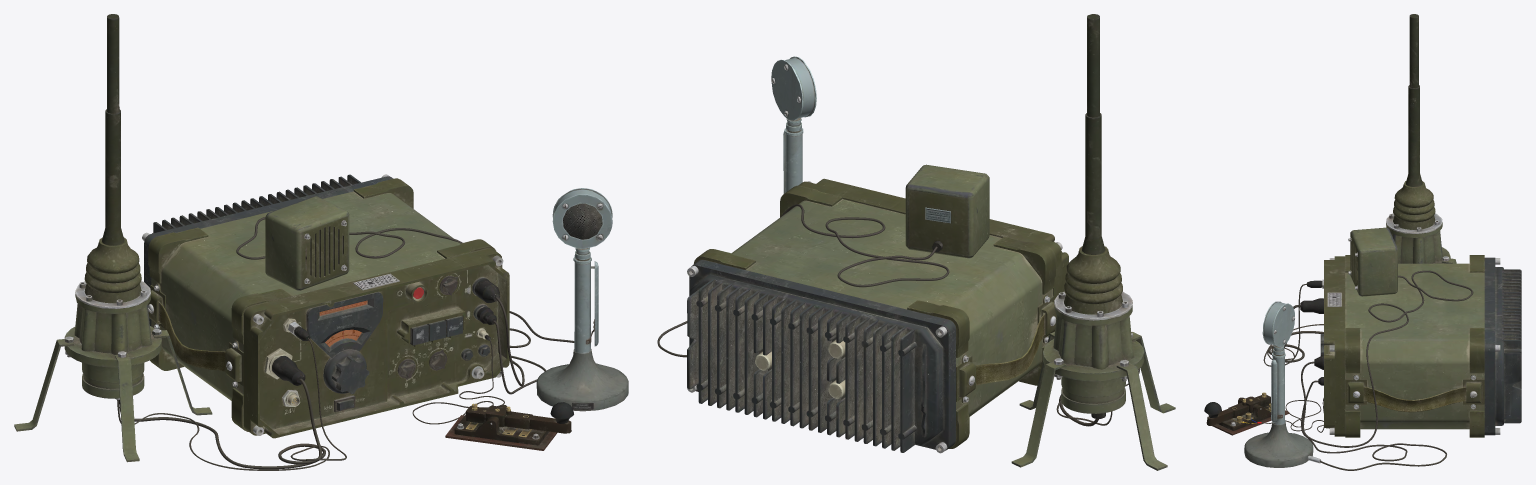
File: vintage_radio_transceiver.glb
3 renders of one model, left to right at view 1: azimuth 30°, elevation 25°; view 2: azimuth 150°, elevation 25°; view 3: azimuth 270°, elevation 25°, orthographic. The views are drawn at different scales.
Parts seen in each view (by area): view 1: vintage_radio_transceiver, vintage_radio_transceiver_cable; view 2: vintage_radio_transceiver, vintage_radio_transceiver_cable; view 3: vintage_radio_transceiver, vintage_radio_transceiver_cable.
Boxes of the visible parts, x1,y1,x2,y2 form: vintage_radio_transceiver: (142, 174, 509, 438); vintage_radio_transceiver_cable: (14, 14, 628, 470); vintage_radio_transceiver: (687, 178, 1068, 453); vintage_radio_transceiver_cable: (657, 14, 1175, 470); vintage_radio_transceiver: (1320, 255, 1521, 437); vintage_radio_transceiver_cable: (1204, 14, 1473, 470).
Size of the model in its own units: 0.574 by 0.4344 by 0.4131.
2 materials, 2 textured.
